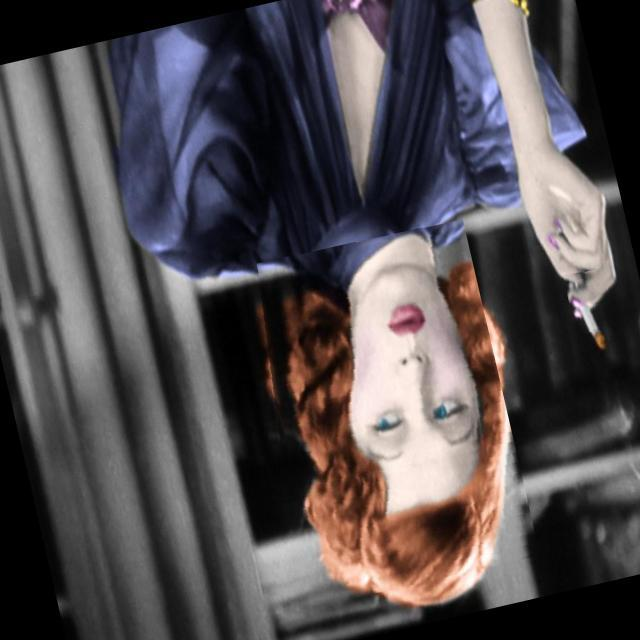cigarette: (562, 266, 628, 374)
